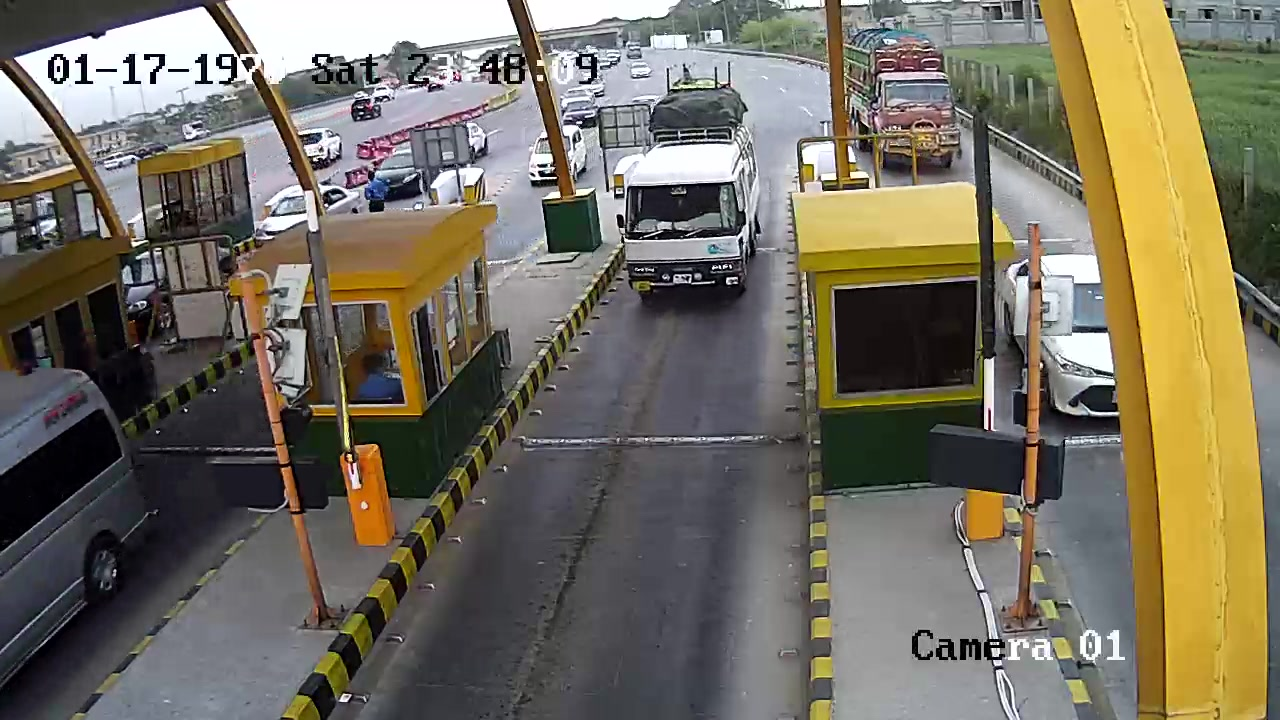F3: (614, 63, 765, 311)
